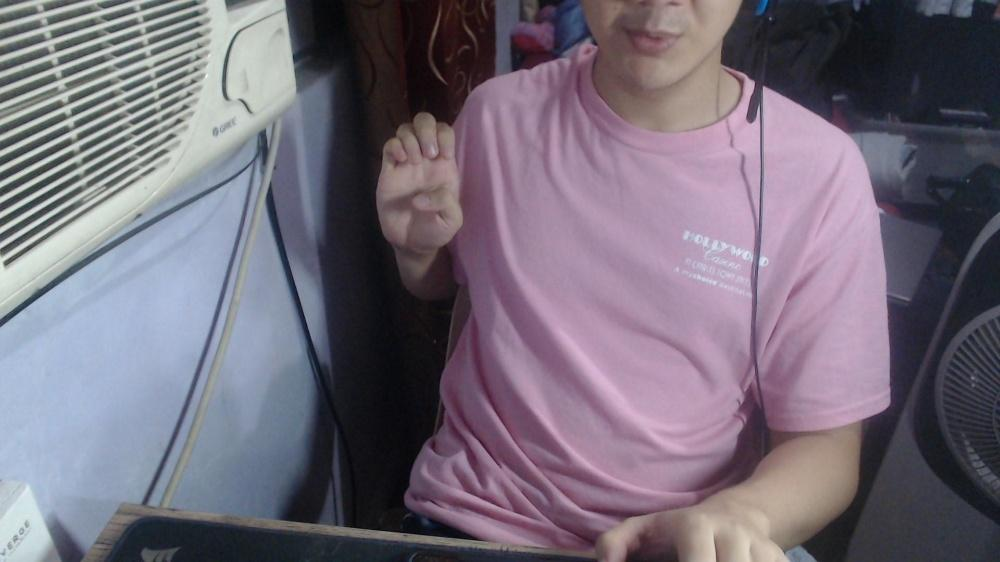e: (374, 110, 465, 253)
